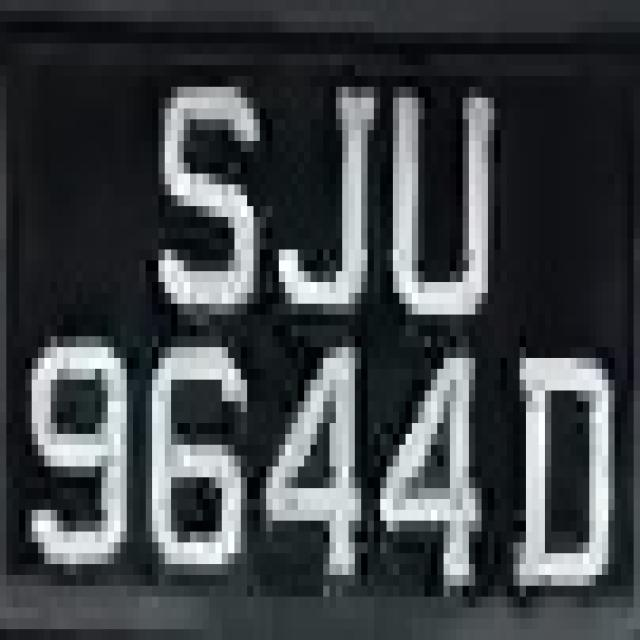4: (247, 314, 387, 596), (380, 304, 494, 607)
6: (133, 293, 254, 586)
9: (13, 293, 139, 607)
D: (507, 326, 627, 629)
J: (279, 33, 380, 336)
S: (133, 33, 266, 336)
U: (374, 54, 513, 326)
